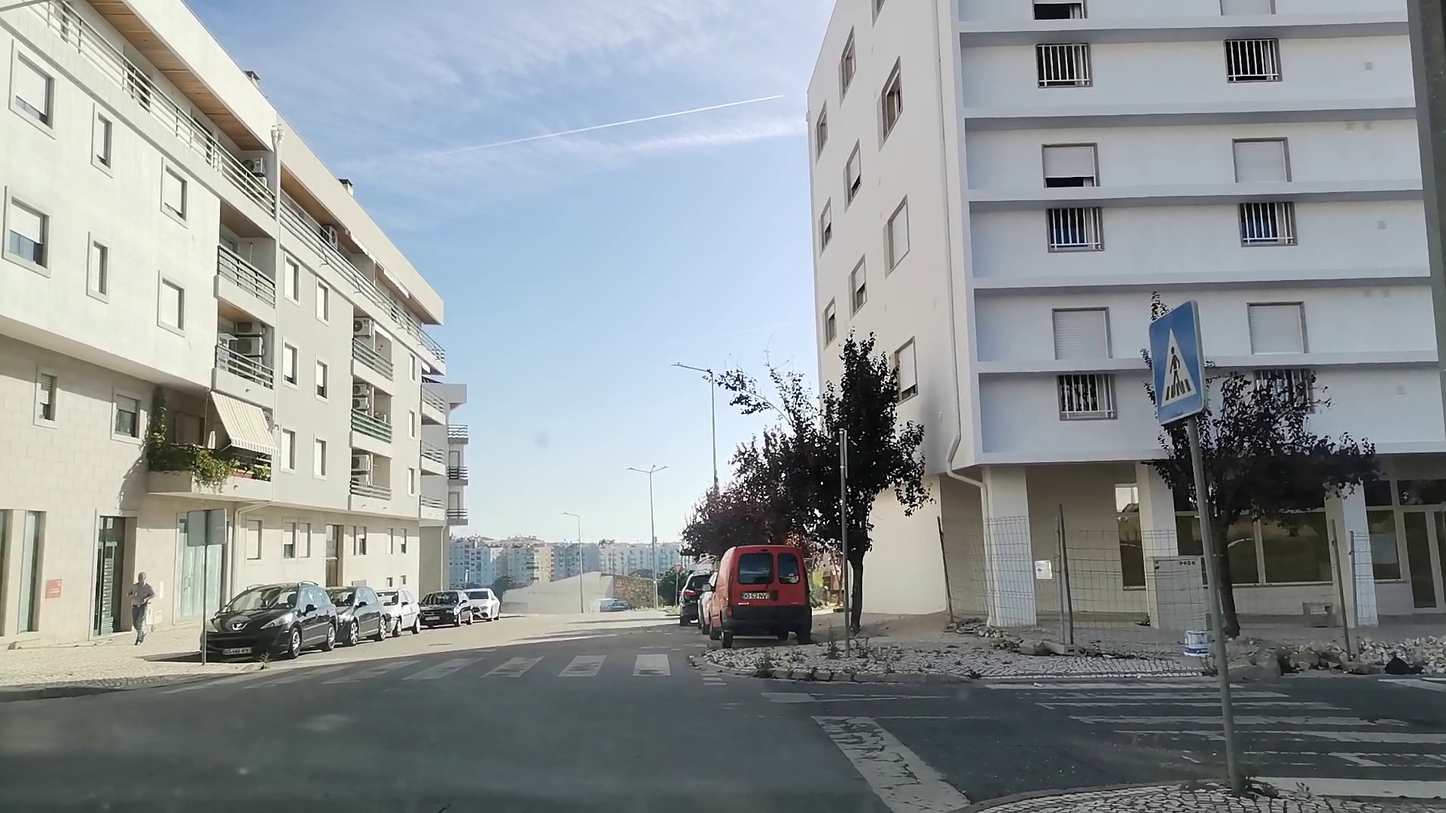Stairs: (994, 677, 1446, 784), (167, 649, 689, 691)
